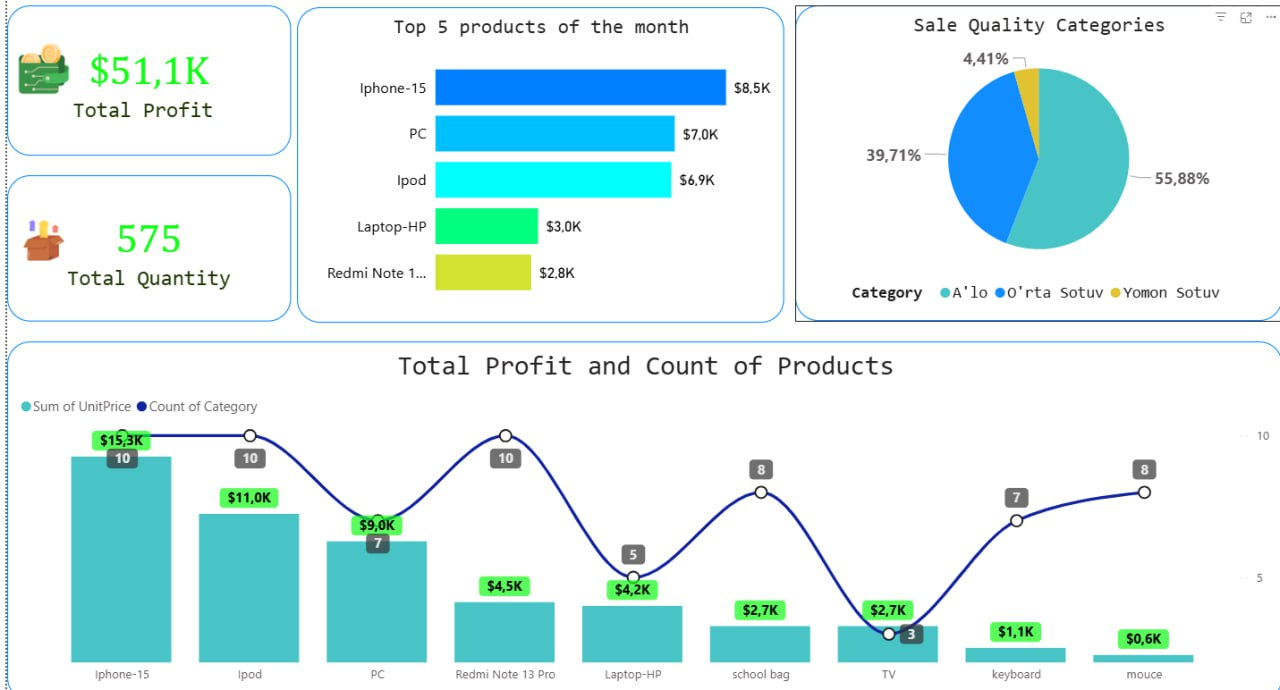

The page's visual inventory and layout, read from the dashboard file:
{"tool":"powerbi","page":{"name":"Page 1","canvas":[1280,720],"ordinal":0},"visuals":[{"type":"pieChart","title":"Sale Quality Categories ","fields":{"Category":["Sales.Category"],"Y":["CountNonNull(Sales.ProductID)"]},"box":[791.2,13.7,488.9,317.2],"z":0},{"type":"lineStackedColumnComboChart","title":"Total Profit and Count of Products ","fields":{"Category":["Sales.ProductName"],"Y":["Sum(Sales.UnitPrice)"],"Y2":["CountNonNull(Sales.Category)"]},"box":[0,350.8,1280,360.7],"z":1000},{"type":"card","title":"Total Profit","fields":{"Values":["Sum(Sales.UnitPrice)"]},"box":[0,13.5,284.6,150.8],"z":2000},{"type":"card","title":"Total Profit","fields":{"Values":["Sum(Sales.QuantitySold)"]},"box":[0,184,284.6,147.2],"z":4000},{"type":"clusteredBarChart","title":"Top 5 products of the month ","fields":{"Y":["Sum(Sales.UnitPrice)"],"Category":["Sales.ProductName"]},"box":[291.1,14.9,488.9,317.2],"z":5000},{"type":"image","box":[6.3,46.7,61,61],"z":5001},{"type":"image","box":[6.3,219.1,61,61],"z":5002}]}

Visuals, with their boxes in screenshot pixels (x1, y1, x2, y2):
"Sale Quality Categories " pieChart: (left=782, top=7, right=1261, bottom=318)
"Total Profit and Count of Products " lineStackedColumnComboChart: (left=7, top=337, right=1261, bottom=689)
"Total Profit" card: (left=7, top=7, right=286, bottom=154)
"Total Profit" card: (left=7, top=174, right=286, bottom=318)
"Top 5 products of the month " clusteredBarChart: (left=292, top=8, right=771, bottom=319)
image: (left=13, top=39, right=73, bottom=99)
image: (left=13, top=208, right=73, bottom=268)
